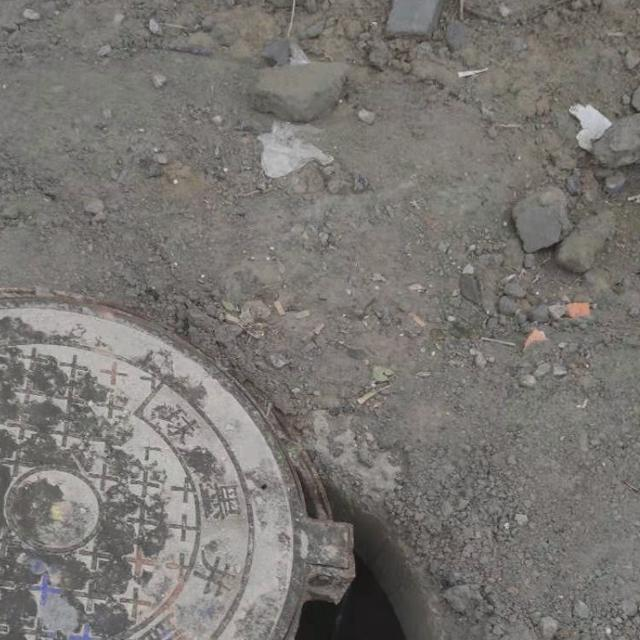uncovered: (0, 289, 439, 640)
